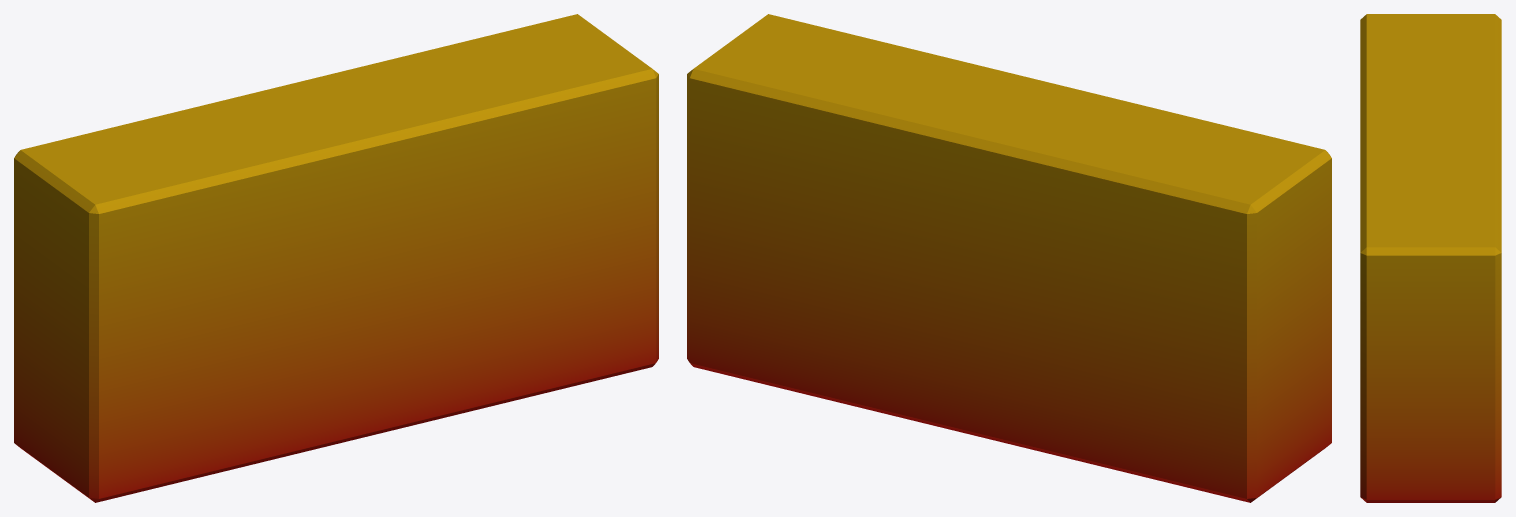
Rendered from wall_low.glb.
3 renders of one model, left to right at view 1: azimuth 30°, elevation 25°; view 2: azimuth 150°, elevation 25°; view 3: azimuth 270°, elevation 25°, orthographic. The views are drawn at different scales.
Visible parts, largest first — view 1: wall_low; view 2: wall_low; view 3: wall_low.
Boxes of the visible parts, left/top/right/bottom form: wall_low: left=14, top=14, right=658, bottom=502; wall_low: left=687, top=14, right=1331, bottom=502; wall_low: left=1360, top=14, right=1501, bottom=502.
Size of what is drawn, in the model's own units: 2 by 1 by 0.5.
